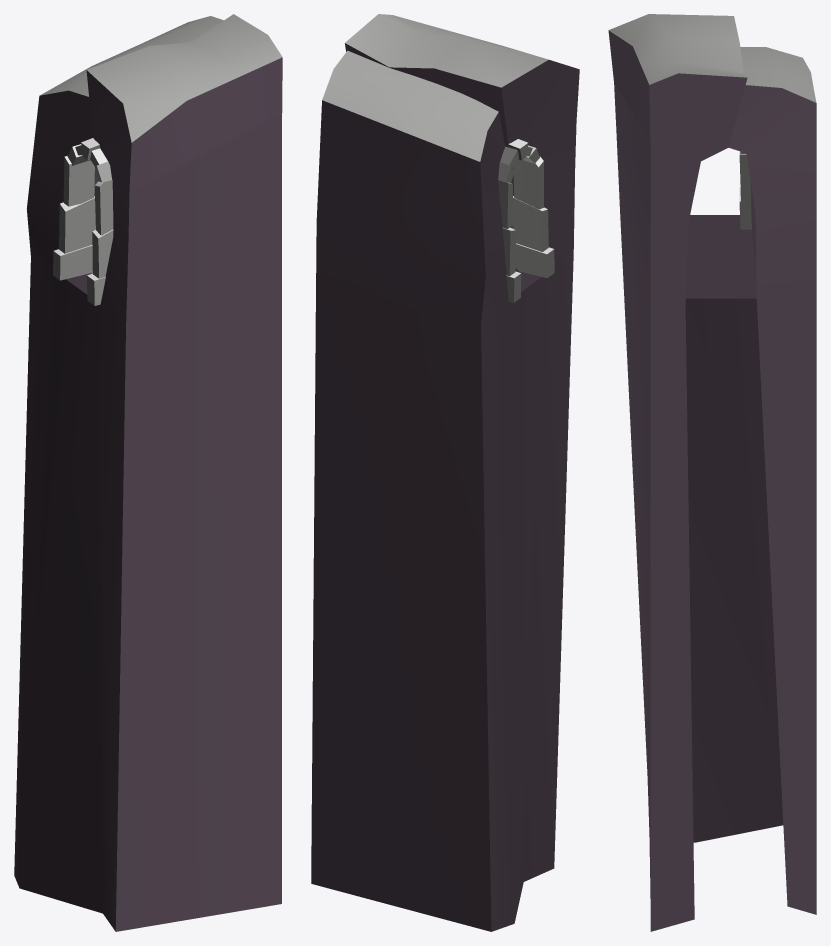
File: env01_cliff_right_door.FBX
The picture shows the model from 3 angles, left to right: view 1: azimuth 30°, elevation 25°; view 2: azimuth 150°, elevation 25°; view 3: azimuth 270°, elevation 25°; orthographic projection. The views are drawn at different scales.
Parts seen in each view (by area): view 1: env01_cliff_right_door; view 2: env01_cliff_right_door; view 3: env01_cliff_right_door.
Part boxes in pixels (bbox=[...]): env01_cliff_right_door: bbox=[14, 14, 282, 931]; env01_cliff_right_door: bbox=[311, 14, 579, 931]; env01_cliff_right_door: bbox=[608, 14, 816, 931].
Size of the model in its own units: 235 by 991 by 218.
